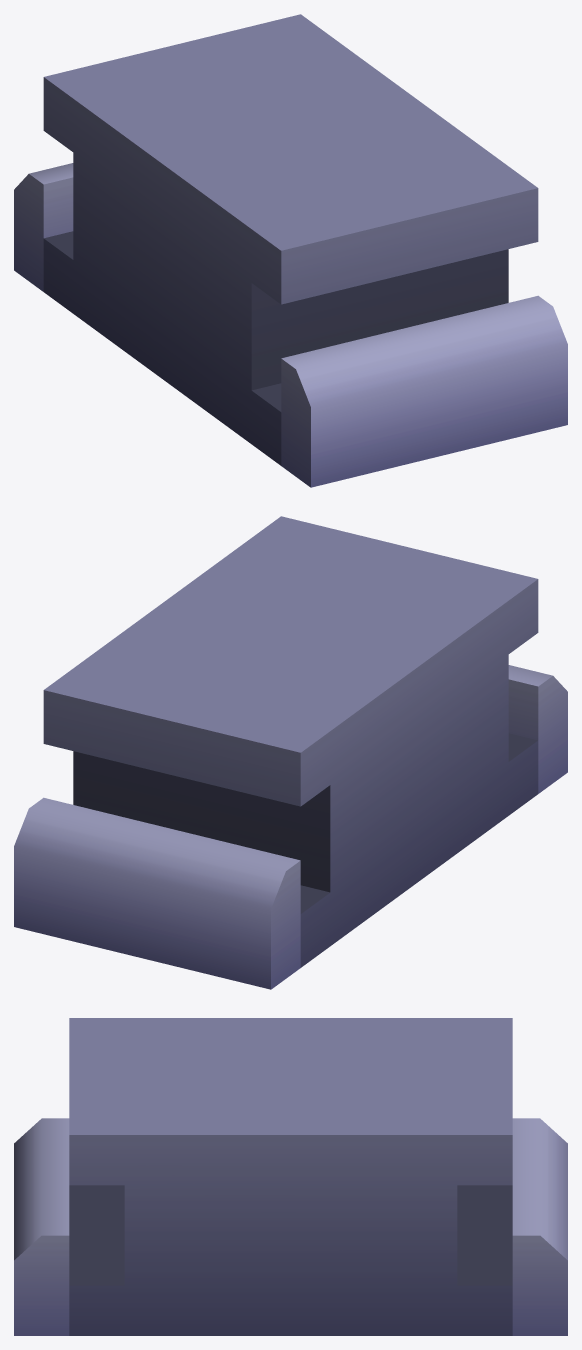
Rendered from kenney-factory-conveyor-long-sides-part-middle.glb.
The picture shows the model from 3 angles, top to bottom: view 1: azimuth 30°, elevation 25°; view 2: azimuth 150°, elevation 25°; view 3: azimuth 270°, elevation 25°; orthographic projection. The views are drawn at different scales.
Parts seen in each view (by area): view 1: conveyor-long-sides-part-middle; view 2: conveyor-long-sides-part-middle; view 3: conveyor-long-sides-part-middle.
Boxes of the visible parts, x1=… form: conveyor-long-sides-part-middle: x1=14, y1=14, x2=567, y2=487; conveyor-long-sides-part-middle: x1=14, y1=516, x2=567, y2=989; conveyor-long-sides-part-middle: x1=14, y1=1018, x2=567, y2=1335.
Size of the model in its own units: 0.5001 by 0.3999 by 1.
1 material, 1 textured.
